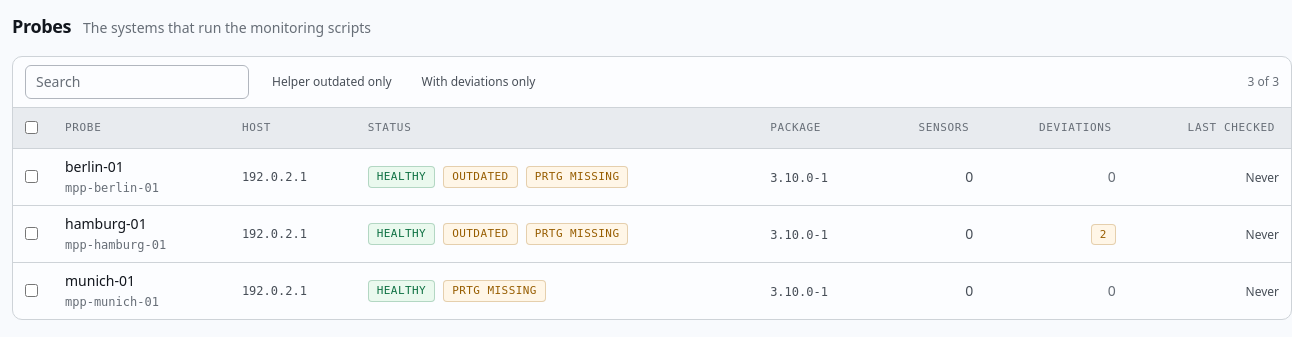
acting on a selection of probes › narrows the list to the rows a filter is about
Expected: the text "mpp-munich-01" is shown, [65,295,159,309]
Click the button "Helper outdated only" at (332, 82), box [261,69,403,95]
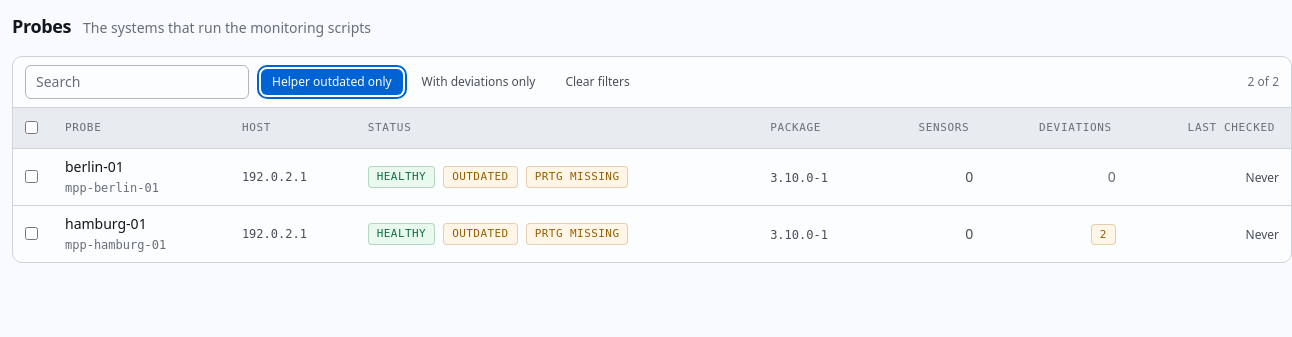
Expected: the text "mpp-berlin-01" is shown, [65,181,159,195]
Result: the link "mpp-munich-01" is gone
Click the button "With deviations only" at (478, 82), box [411,69,546,95]
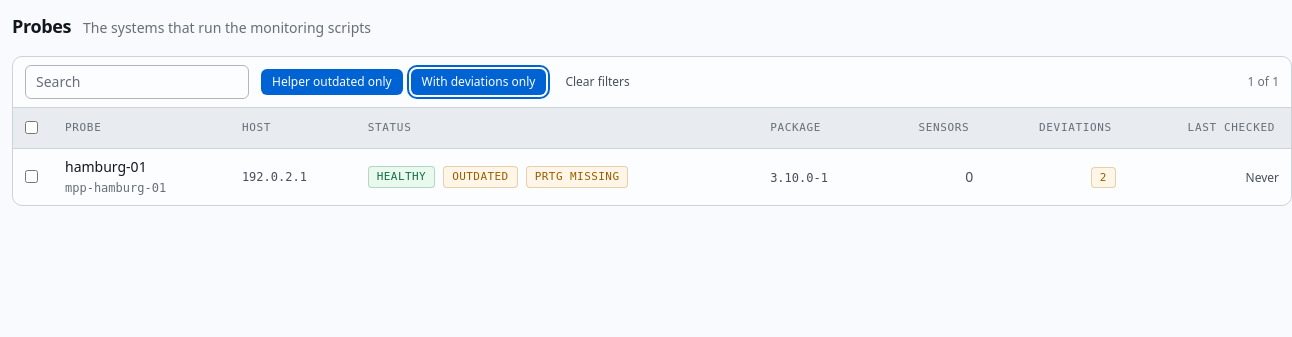
Expected: the text "mpp-hamburg-01" is shown, [65,181,166,195]
Result: the link "mpp-berlin-01" is gone
Click the button "Clear filters" at (598, 82), box [554,69,641,95]
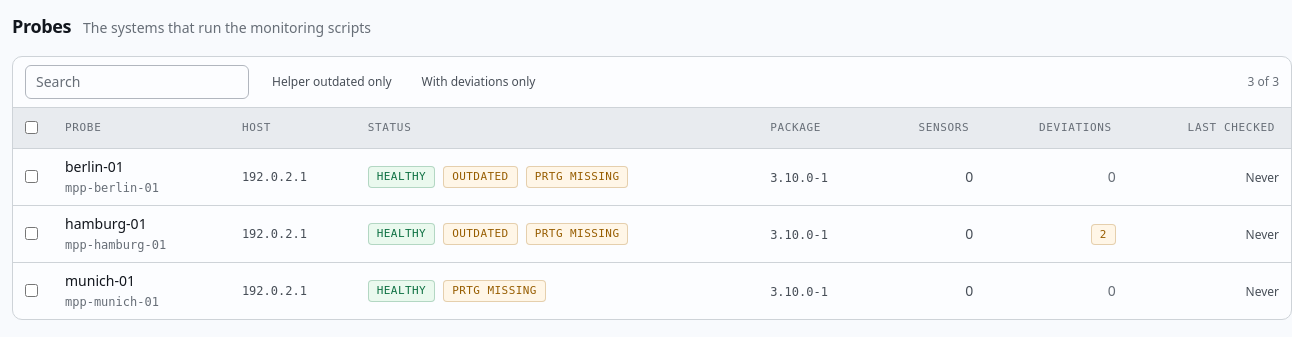
Result: the text "mpp-munich-01" is shown at [65,295,159,309]
